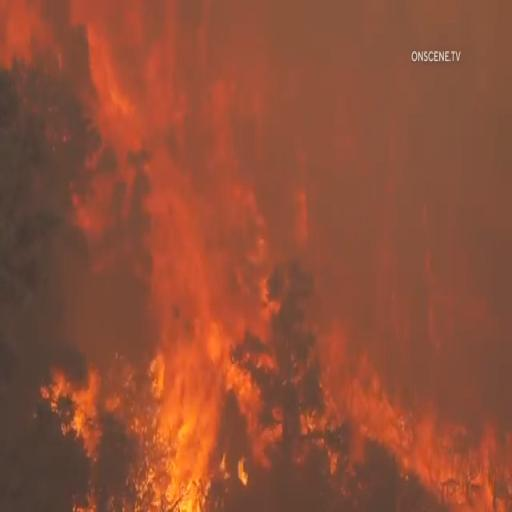fire: (88, 362, 233, 512), (360, 385, 512, 511)
